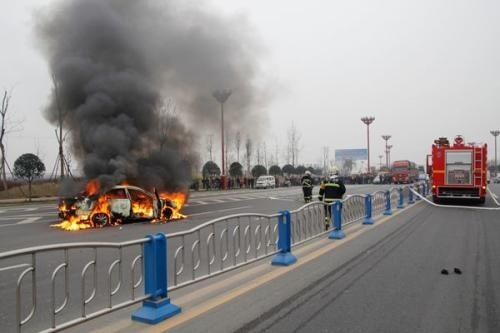fire: (51, 178, 186, 227)
